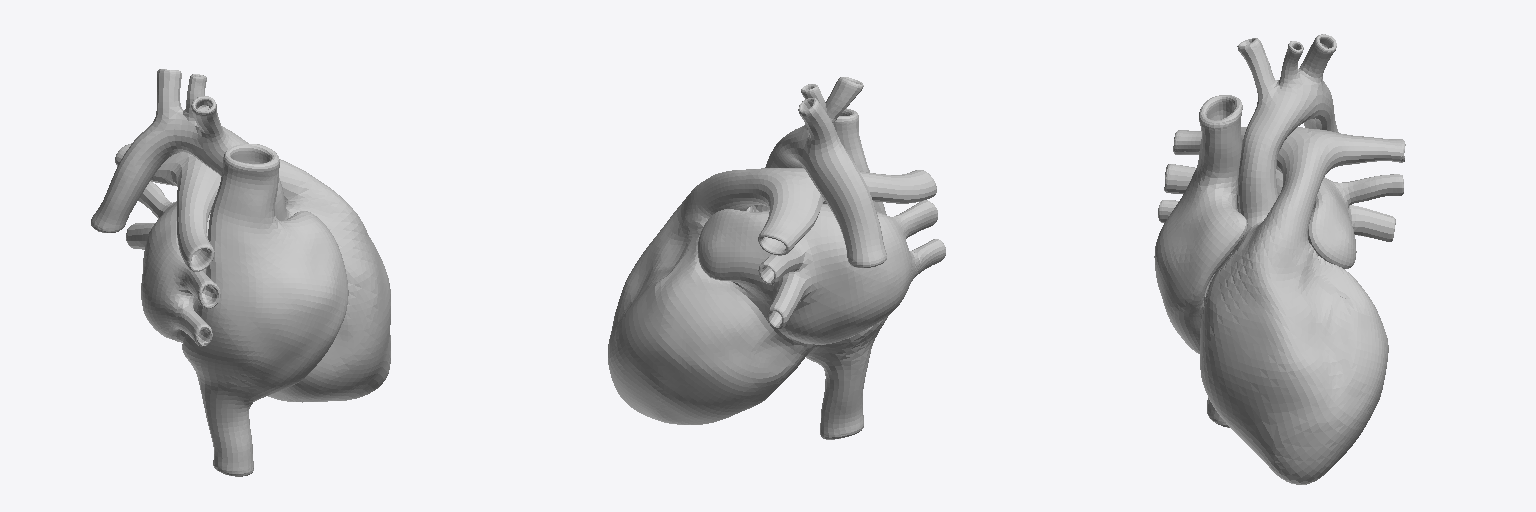
3 renders of one model, left to right at view 1: azimuth 30°, elevation 25°; view 2: azimuth 150°, elevation 25°; view 3: azimuth 270°, elevation 25°, orthographic.
Visible parts, largest first — view 1: HEART_PRO; view 2: HEART_PRO; view 3: HEART_PRO.
Part boxes in pixels (left/top/right/bottom): HEART_PRO: left=91, top=69, right=390, bottom=476; HEART_PRO: left=608, top=77, right=945, bottom=439; HEART_PRO: left=1154, top=34, right=1405, bottom=484.
Bounding box in the file's own units: 635 × 819 × 495.